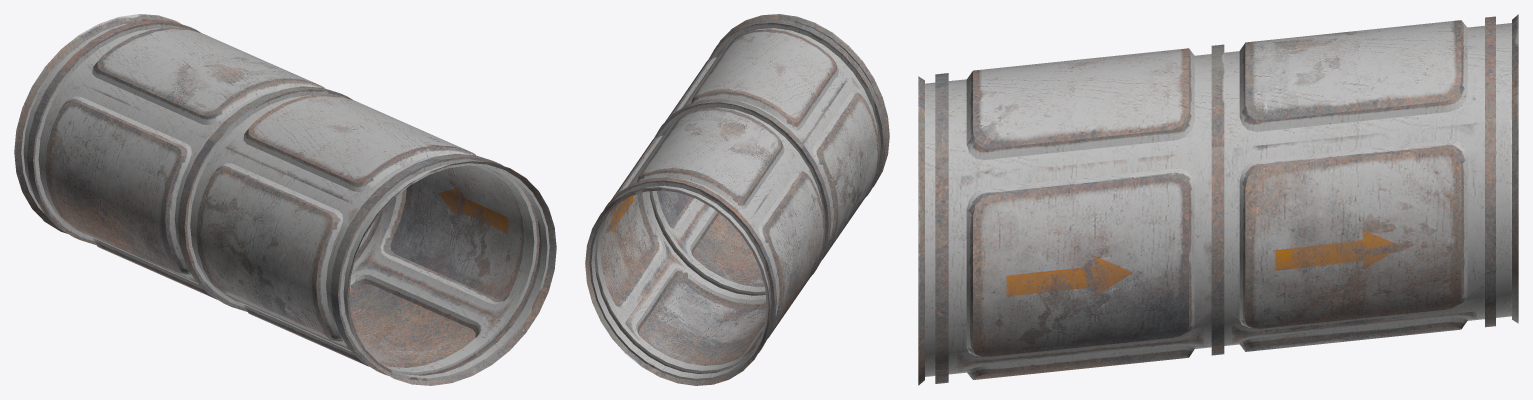
File: Corridor_Left.obj
3 renders of one model, left to right at view 1: azimuth 30°, elevation 25°; view 2: azimuth 150°, elevation 25°; view 3: azimuth 270°, elevation 25°, orthographic. The views are drawn at different scales.
Visible parts, largest first — view 1: Cylinder002; view 2: Cylinder002; view 3: Cylinder002.
Boxes of the visible parts, box(x1,y1,x2,y2) form: Cylinder002: box(14, 14, 556, 385); Cylinder002: box(585, 14, 889, 385); Cylinder002: box(918, 14, 1518, 385).
Bounding box in the file's own units: 15.56 × 10.65 × 20.45.
Materials: 1 (1 with a texture image).
